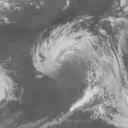cyclone: (30, 15, 127, 79)
